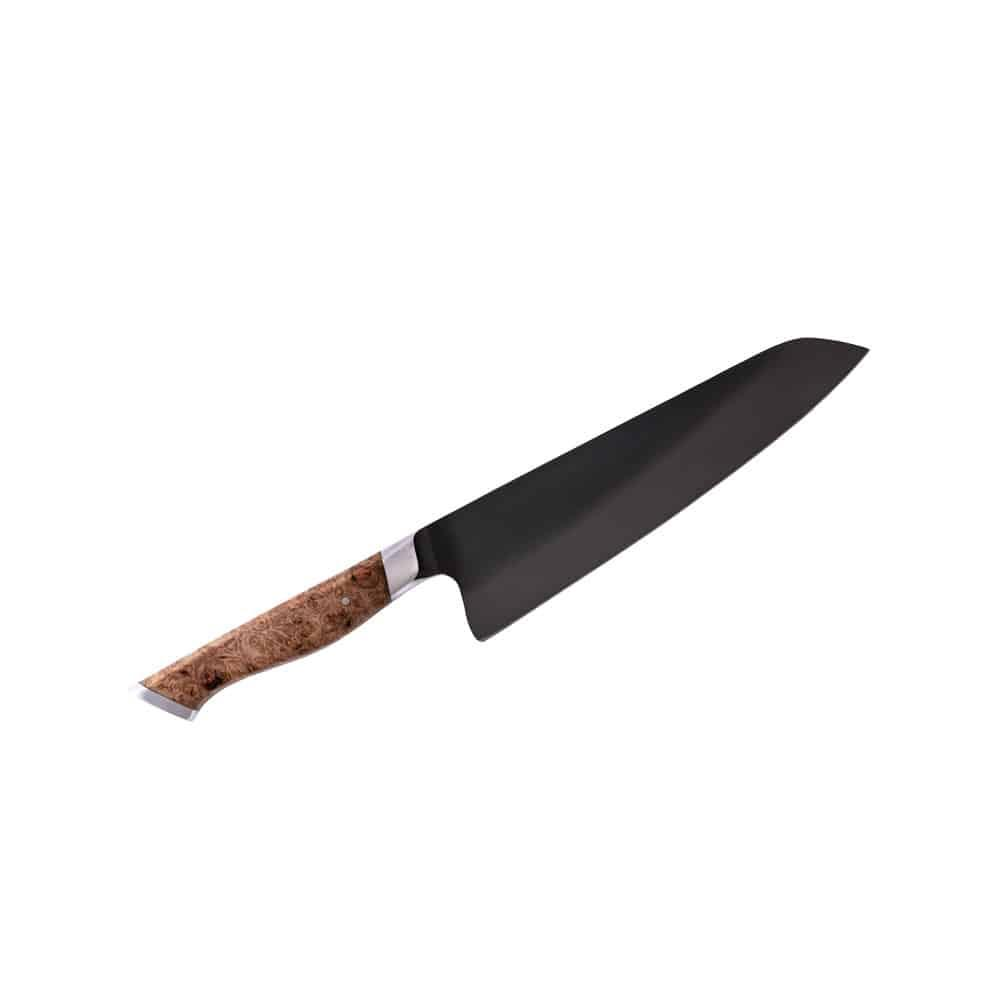Knife: (131, 330, 873, 727)
